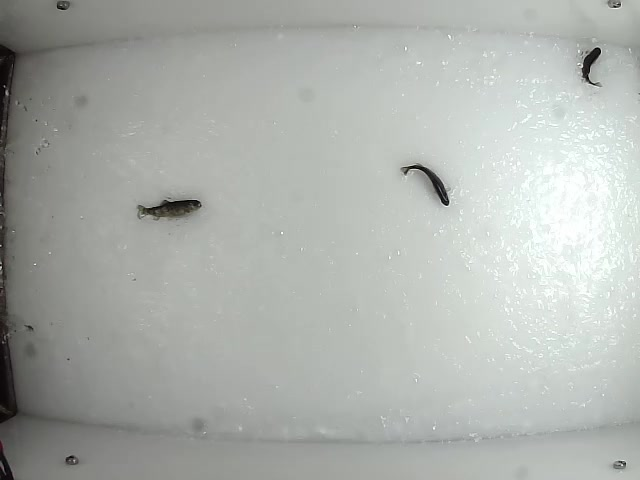fish: (400, 162, 452, 208), (134, 196, 203, 222), (579, 44, 604, 89)
